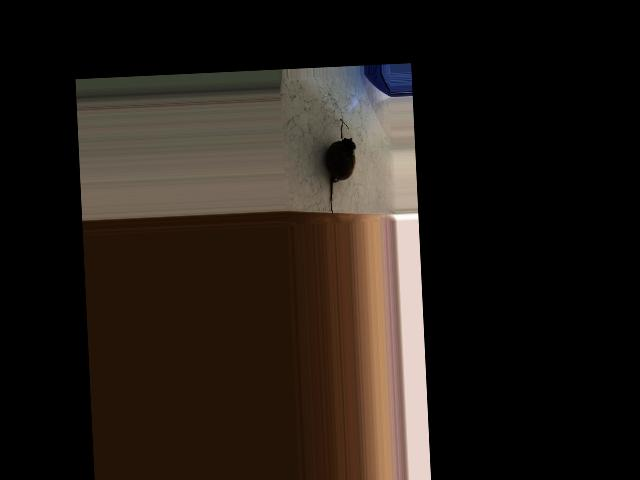beet: (324, 118, 358, 216)
